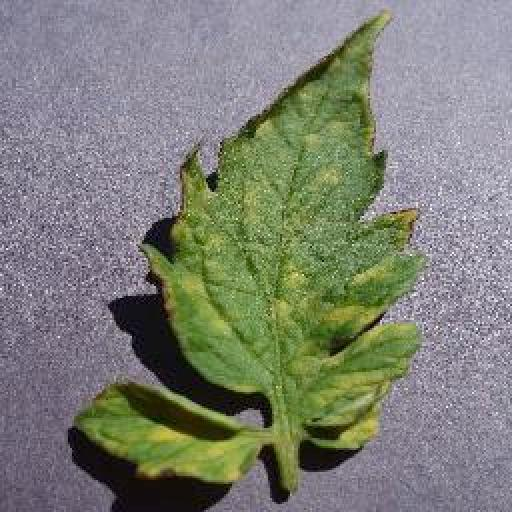disease_tomato: (151, 6, 431, 450), (72, 380, 266, 484)
